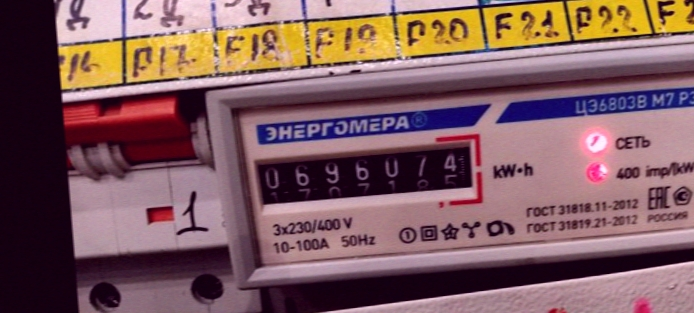0: (260, 163, 281, 189), (382, 152, 400, 178)
4: (440, 147, 457, 170)
5: (443, 172, 460, 188)
6: (353, 154, 372, 181), (292, 161, 311, 186)
7: (412, 150, 431, 177)
9: (322, 157, 340, 185)
screen: (243, 128, 488, 216)
